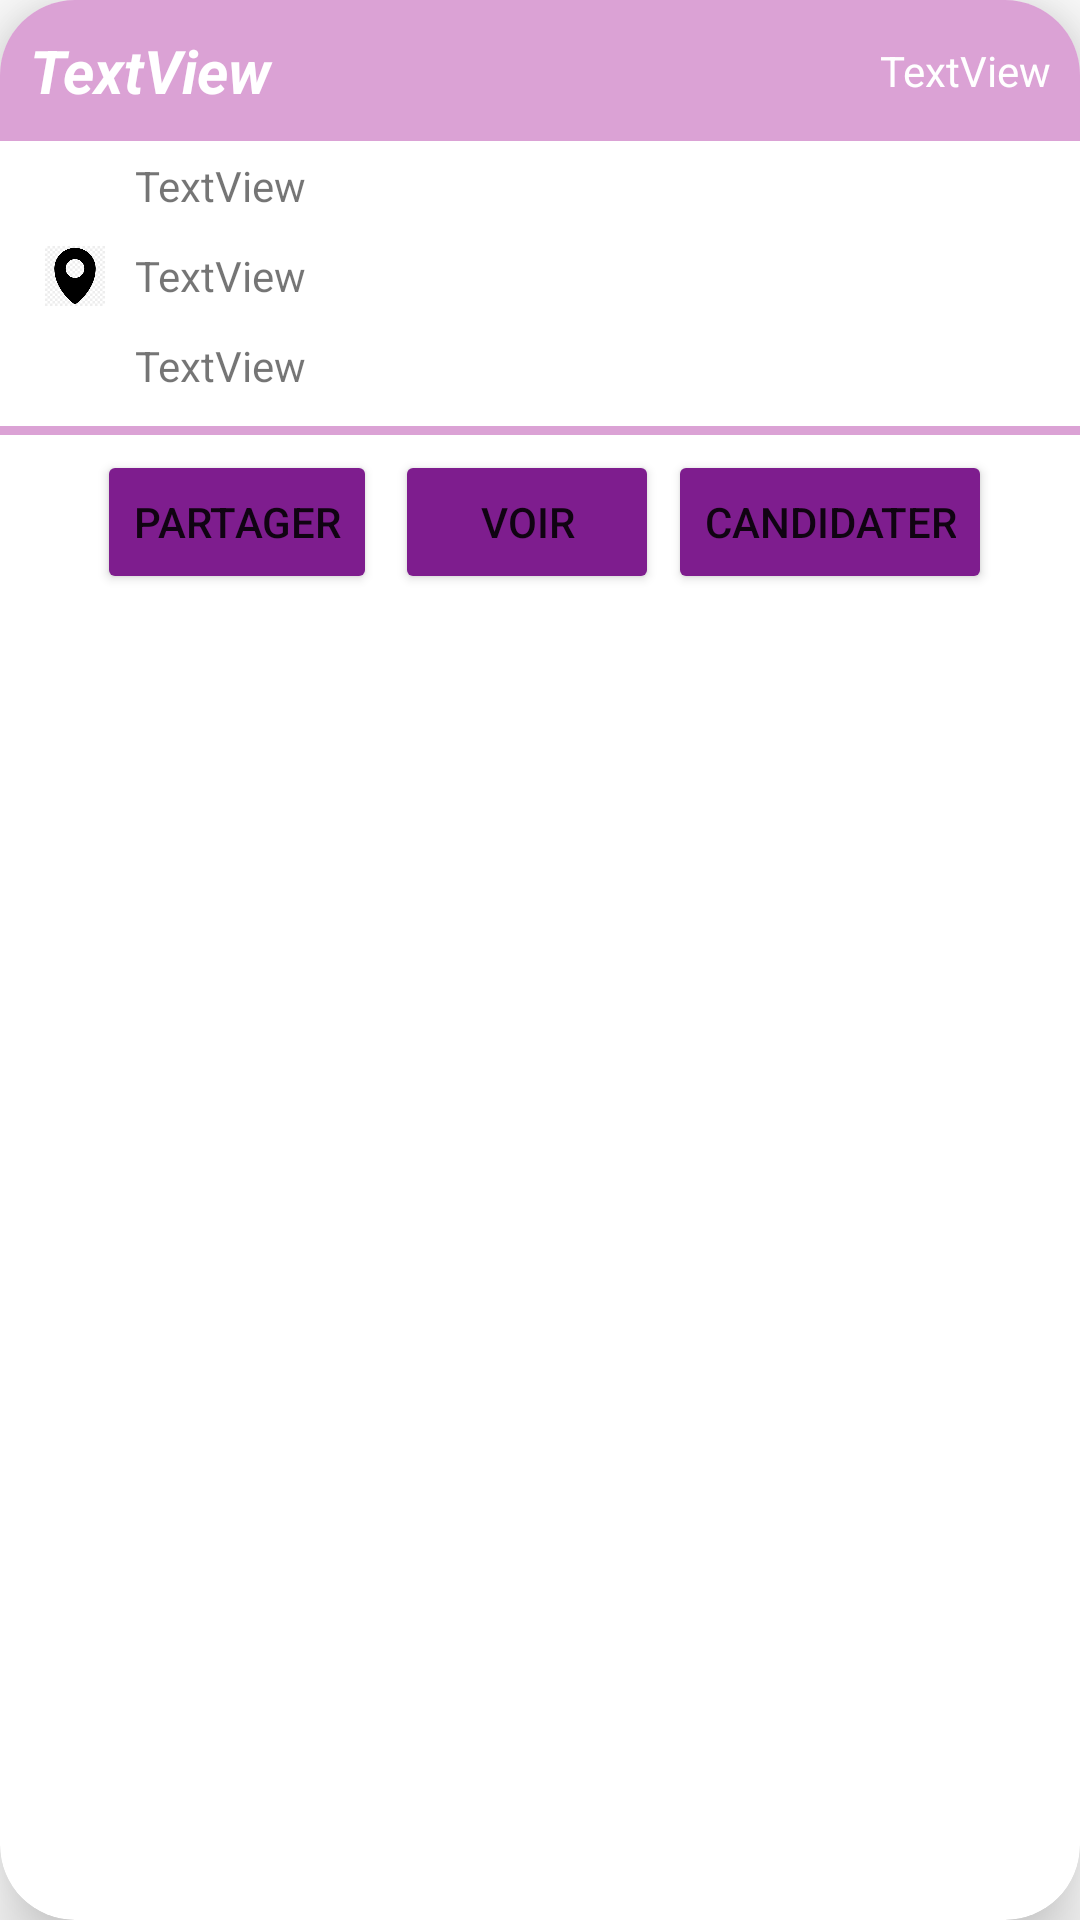

Screen size 1080×1920. Icon name, then its box in pixels as box=[x1, y1, x2, y2]:
loc: box=[54, 248, 96, 304]
